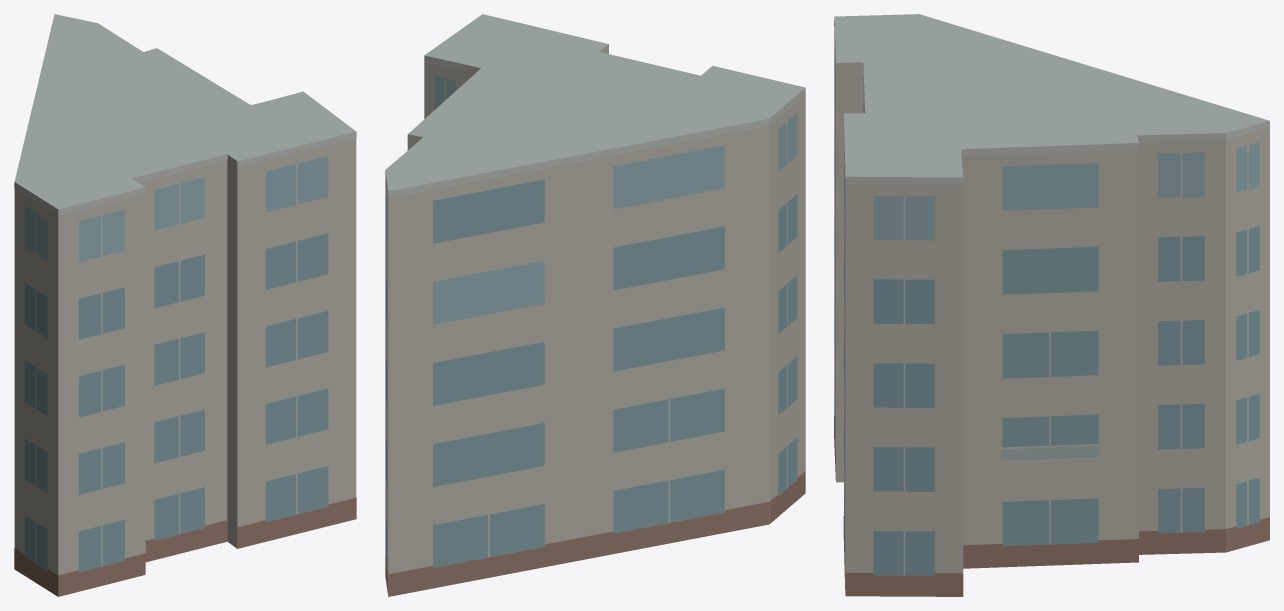
File: survey-upis-32659493.glb
3 renders of one model, left to right at view 1: azimuth 30°, elevation 25°; view 2: azimuth 150°, elevation 25°; view 3: azimuth 270°, elevation 25°, orthographic. The views are drawn at different scales.
Visible parts, largest first — view 1: survey-upis-32659493.tmp; view 2: survey-upis-32659493.tmp; view 3: survey-upis-32659493.tmp.
Part boxes in pixels (x1,y1,x2,y2): survey-upis-32659493.tmp: (14, 14, 356, 596); survey-upis-32659493.tmp: (385, 14, 805, 596); survey-upis-32659493.tmp: (834, 14, 1269, 596).
Bounding box in the file's own units: 11.87 × 14.2 × 13.37.
